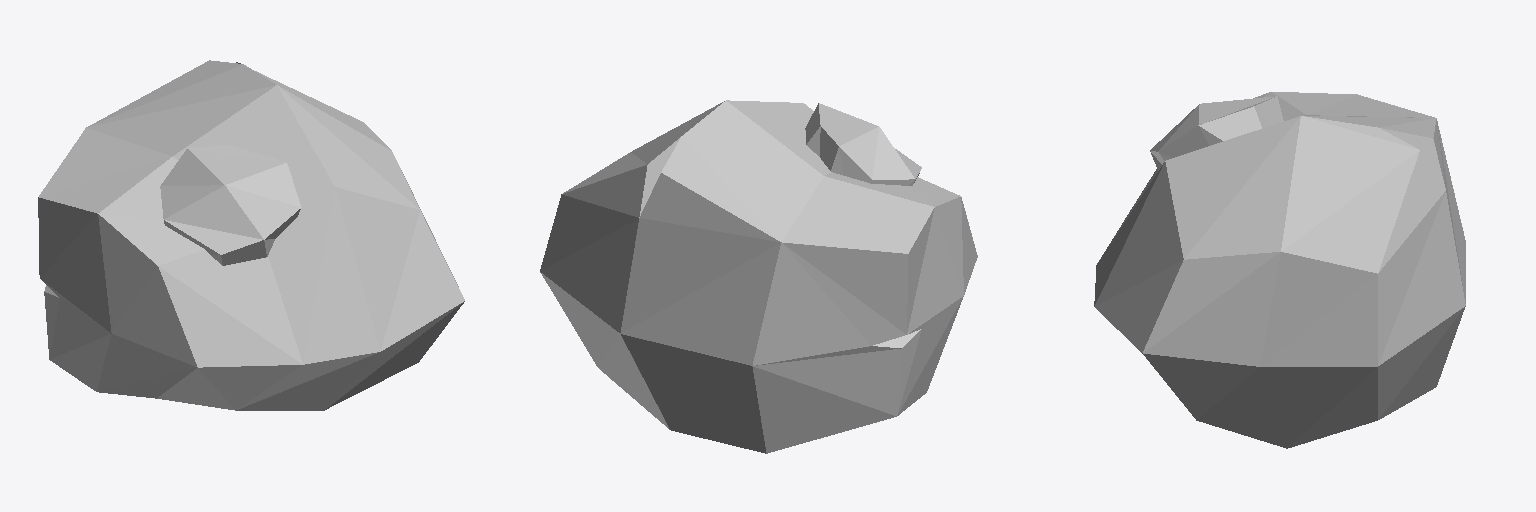
The model's file is rock_02.obj.
3 renders of one model, left to right at view 1: azimuth 30°, elevation 25°; view 2: azimuth 150°, elevation 25°; view 3: azimuth 270°, elevation 25°, orthographic.
Visible parts, largest first — view 1: Cube_Cube.032; view 2: Cube_Cube.032; view 3: Cube_Cube.032.
Boxes of the visible parts, box(x1,y1,x2,y2) form: Cube_Cube.032: box(38, 60, 464, 410); Cube_Cube.032: box(540, 100, 977, 453); Cube_Cube.032: box(1094, 92, 1465, 448).
Bounding box in the file's own units: 240 × 200 × 216.